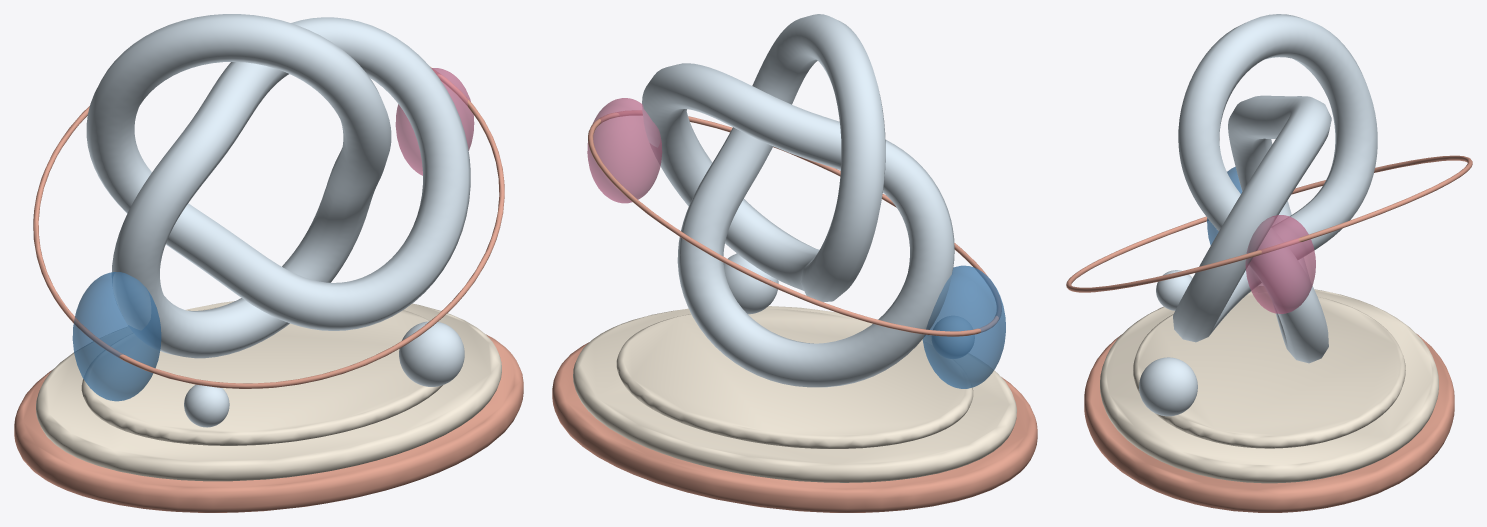
File: coastal-sculpture.glb
The picture shows the model from 3 angles, left to right: view 1: azimuth 30°, elevation 25°; view 2: azimuth 150°, elevation 25°; view 3: azimuth 270°, elevation 25°; orthographic projection. The views are drawn at different scales.
Parts seen in each view (by area): view 1: Liquid chrome knot, Cylinder.002, Cylinder.001, Cylinder, Sphere, Torus, Sphere.002, Sphere.001, Sphere.003; view 2: Liquid chrome knot, Cylinder.002, Cylinder.001, Cylinder, Sphere, Sphere.001, Torus, Sphere.002, Sphere.003; view 3: Liquid chrome knot, Cylinder.002, Cylinder.001, Cylinder, Sphere.001, Torus, Sphere.002, Sphere.003.
Boxes of the visible parts, x1,y1,x2,y2 form: Liquid chrome knot: [86, 14, 470, 358]; Cylinder.002: [81, 306, 442, 445]; Cylinder.001: [36, 301, 501, 481]; Cylinder: [14, 334, 523, 512]; Sphere: [72, 272, 161, 401]; Torus: [33, 67, 504, 388]; Sphere.002: [399, 321, 464, 386]; Sphere.001: [395, 68, 474, 175]; Sphere.003: [184, 384, 229, 427]; Liquid chrome knot: [642, 14, 954, 387]; Cylinder.002: [616, 308, 973, 448]; Cylinder.001: [573, 306, 1016, 482]; Cylinder: [552, 342, 1037, 512]; Sphere: [922, 265, 1005, 388]; Sphere.001: [587, 98, 662, 203]; Torus: [588, 110, 1001, 336]; Sphere.002: [723, 253, 778, 314]; Sphere.003: [932, 316, 974, 358]; Liquid chrome knot: [1173, 14, 1377, 363]; Cylinder.002: [1133, 292, 1405, 448]; Cylinder.001: [1100, 286, 1438, 483]; Cylinder: [1084, 333, 1454, 512]; Sphere.001: [1245, 215, 1315, 313]; Torus: [1066, 155, 1472, 292]; Sphere.002: [1139, 357, 1197, 416]; Sphere.003: [1156, 270, 1192, 310].
Size of the model in its own units: 4.24 by 3.65 by 3.58.
